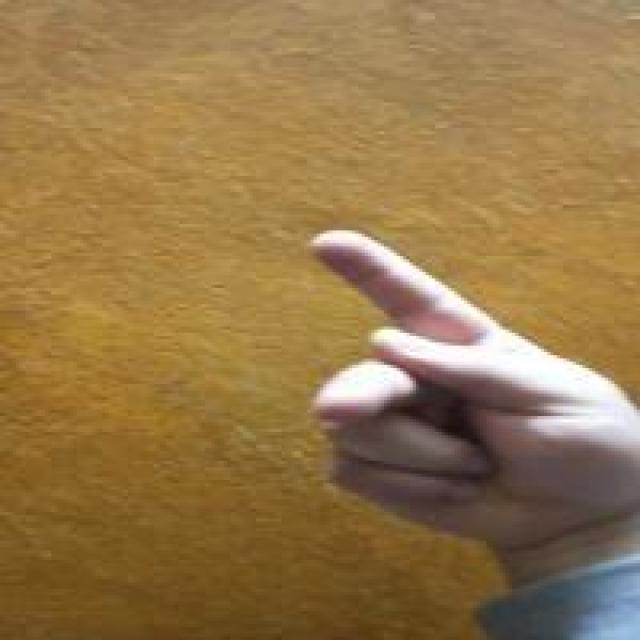K: (269, 216, 640, 555)
